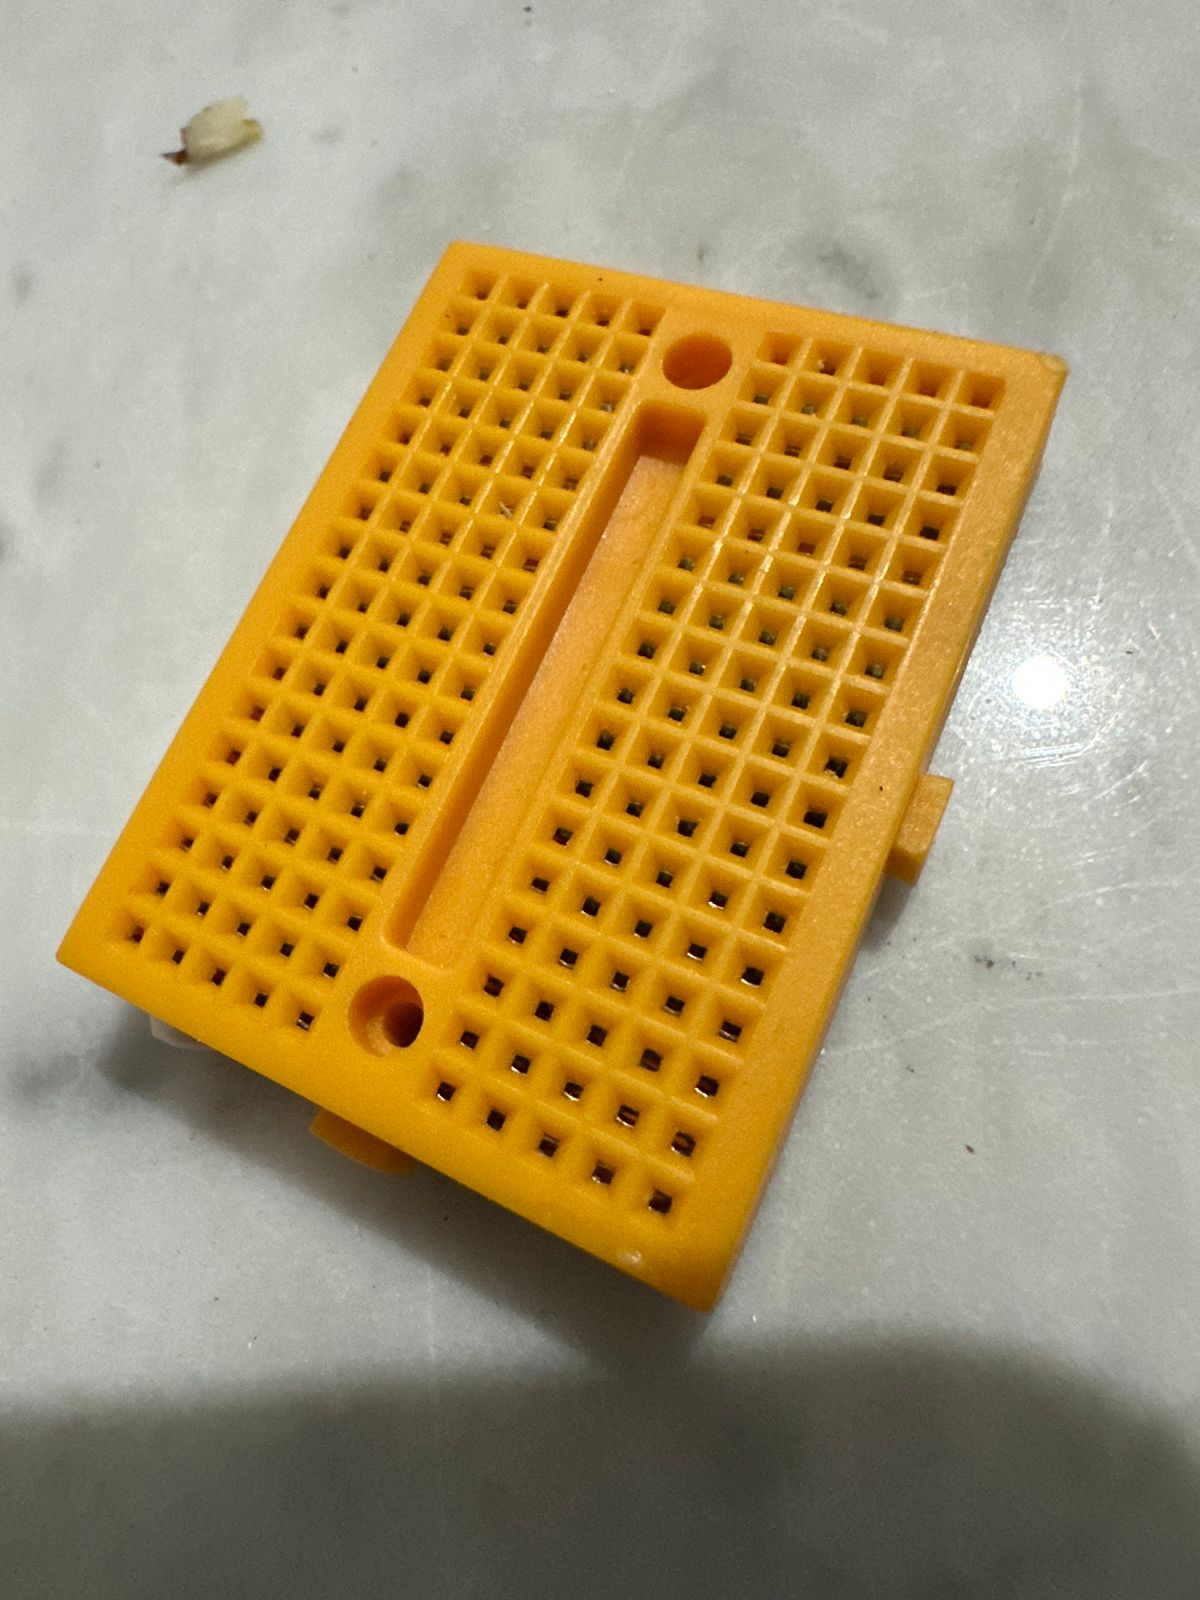breadboard: (50, 227, 1142, 1330)
